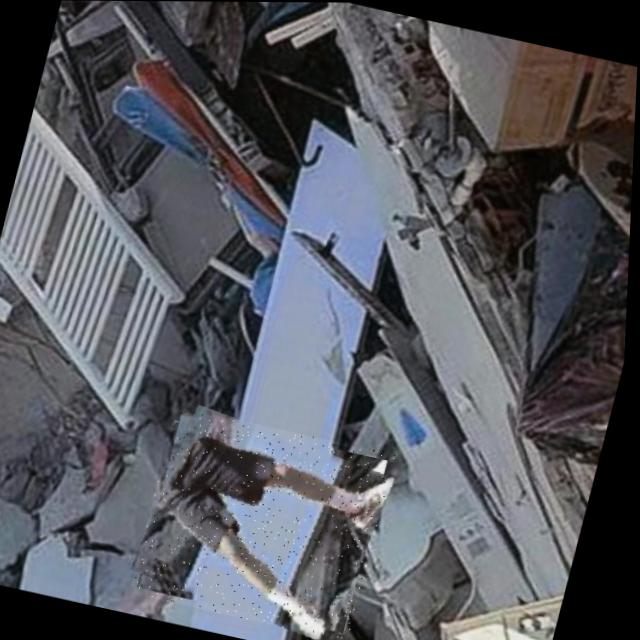Person in Rubble: (133, 404, 401, 640)
